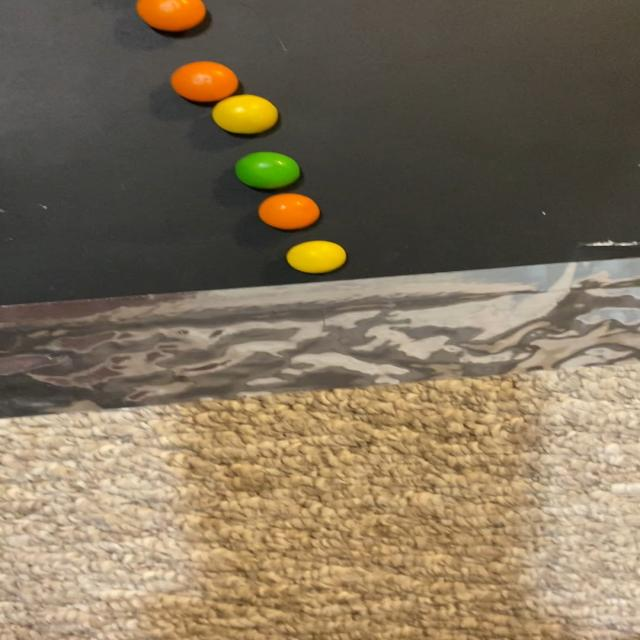smartie: (169, 61, 237, 101), (211, 94, 277, 133), (235, 151, 299, 188), (258, 193, 319, 230), (286, 240, 345, 274)
